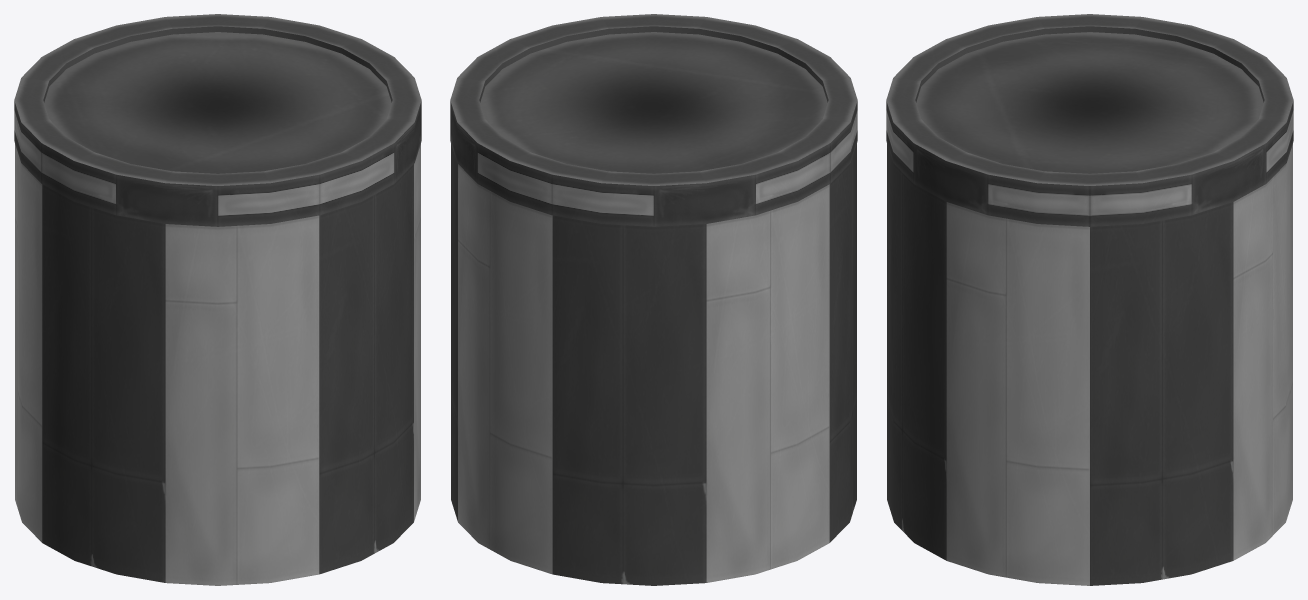
Rendered from LR87_SingleChamber-THE-ACE.dae.
The picture shows the model from 3 angles, left to right: view 1: azimuth 30°, elevation 25°; view 2: azimuth 150°, elevation 25°; view 3: azimuth 270°, elevation 25°; orthographic projection.
Visible parts, largest first — view 1: fairing, TitanEnginePlate; view 2: fairing, TitanEnginePlate; view 3: fairing, TitanEnginePlate.
Boxes of the visible parts, left/top/right/bottom form: fairing: left=15, top=144, right=420, bottom=585; TitanEnginePlate: left=14, top=14, right=421, bottom=226; fairing: left=451, top=144, right=856, bottom=585; TitanEnginePlate: left=450, top=14, right=857, bottom=226; fairing: left=887, top=144, right=1292, bottom=585; TitanEnginePlate: left=886, top=14, right=1293, bottom=226.
Size of the model in its own units: 1.25 by 1.36 by 1.25.
